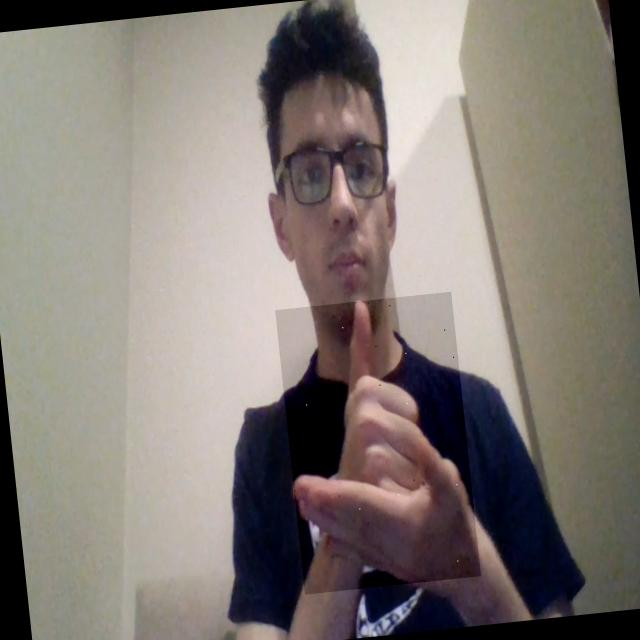help: (274, 291, 480, 594)
